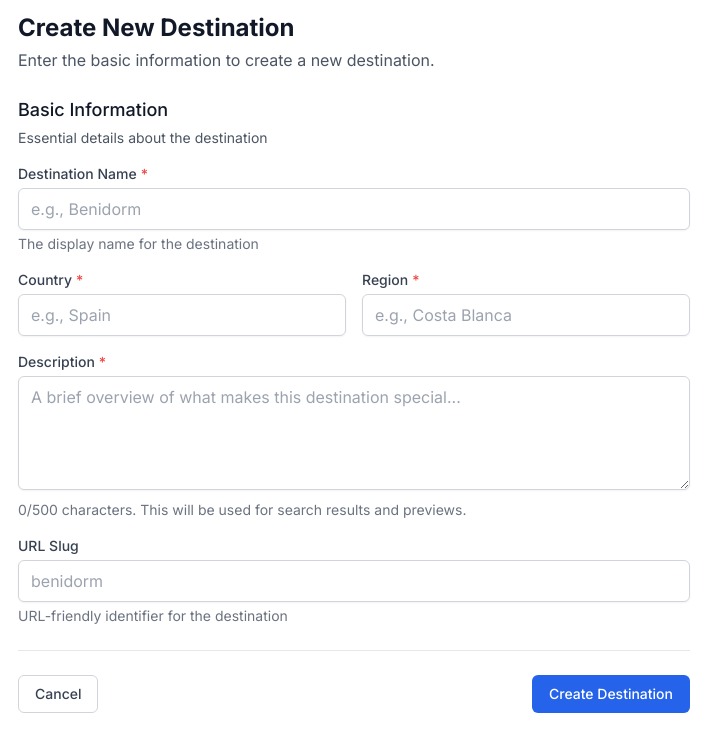
Test case: DestinationForm - Basic Tests › shows character count for description
Step 1. Type "Test description" into the text box labelled "Description*" → (354, 433), box left=18, top=376, right=690, bottom=490
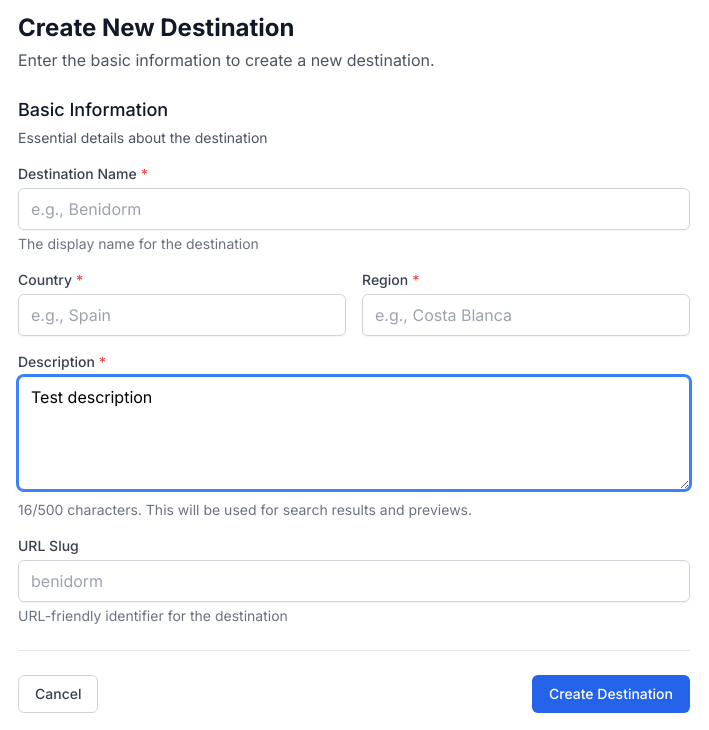
Check: the text "16/500 characters" is shown, box left=18, top=501, right=472, bottom=518
